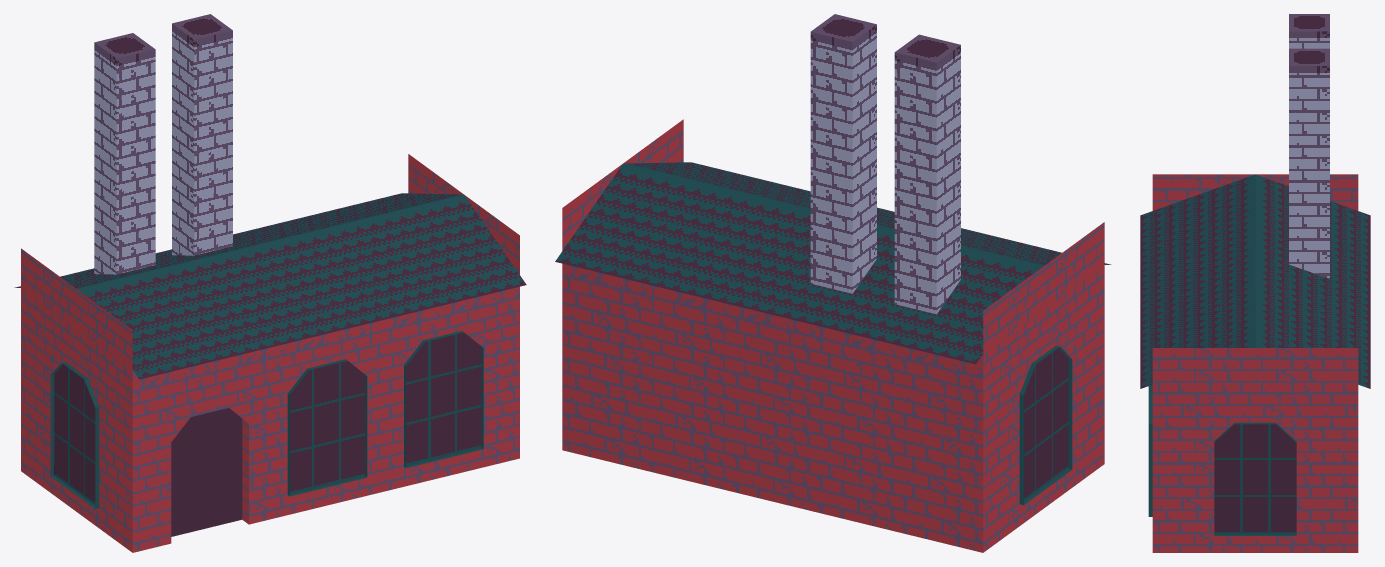
The model's file is factory.glb.
3 renders of one model, left to right at view 1: azimuth 30°, elevation 25°; view 2: azimuth 150°, elevation 25°; view 3: azimuth 270°, elevation 25°, orthographic. The views are drawn at different scales.
Parts seen in each view (by area): view 1: factory; view 2: factory; view 3: factory.
Boxes of the visible parts, left/top/right/bottom form: factory: left=14, top=14, right=526, bottom=552; factory: left=555, top=14, right=1111, bottom=552; factory: left=1140, top=14, right=1370, bottom=552.
Size of the model in its own units: 10.2 by 10.51 by 5.6.
1 material, 1 textured.
